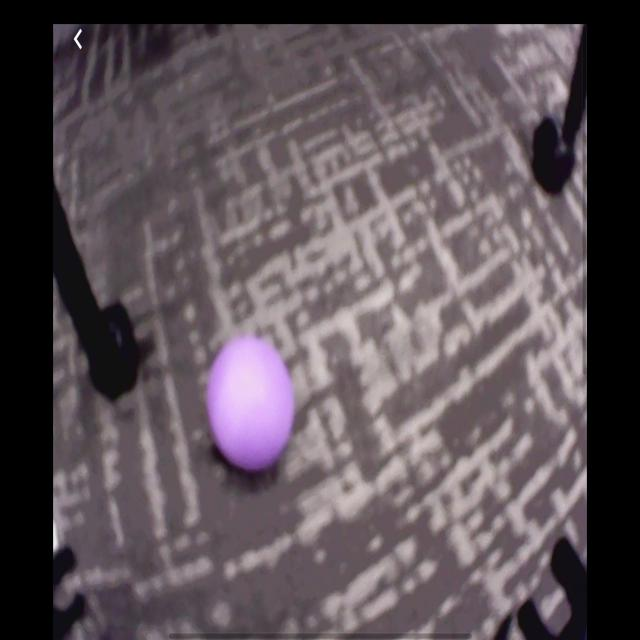ball: (205, 337, 293, 470)
